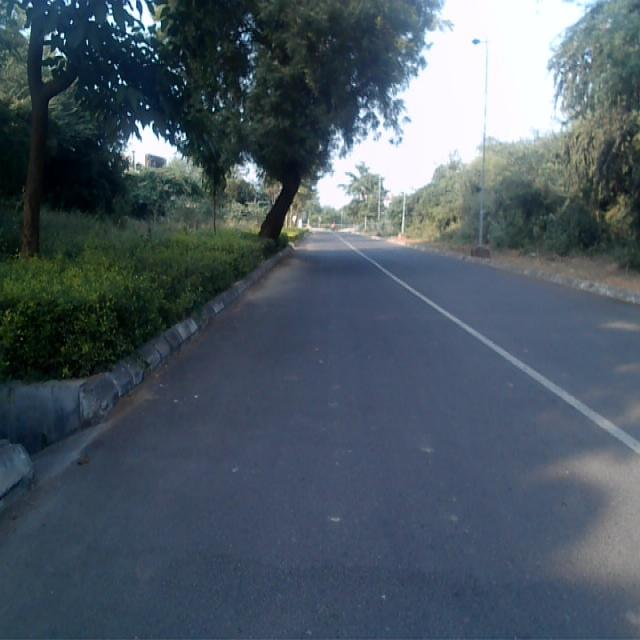lane: (0, 235, 640, 640)
